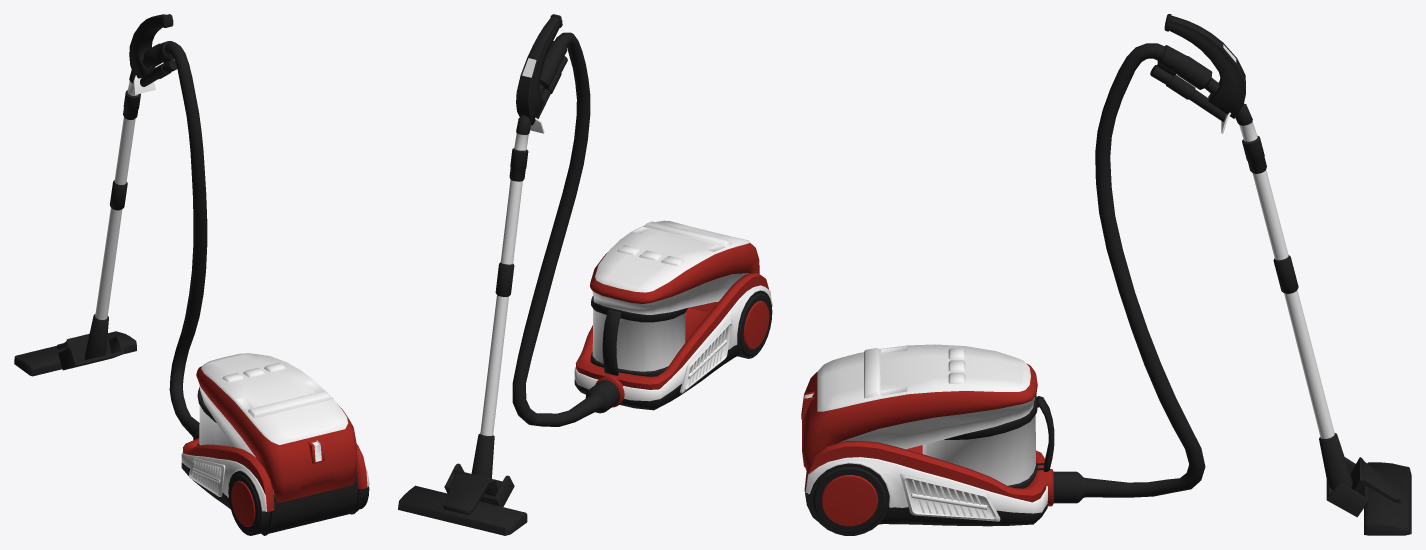
The picture shows the model from 3 angles, left to right: view 1: azimuth 30°, elevation 25°; view 2: azimuth 150°, elevation 25°; view 3: azimuth 270°, elevation 25°; orthographic projection. The views are drawn at different scales.
Visible parts, largest first — view 1: Sc9190; view 2: Sc9190; view 3: Sc9190.
Boxes of the visible parts, left/top/right/bottom form: Sc9190: left=14, top=14, right=369, bottom=535; Sc9190: left=398, top=14, right=772, bottom=535; Sc9190: left=801, top=14, right=1411, bottom=535.
Bounding box in the file's own units: 30.66 × 118 × 104.
